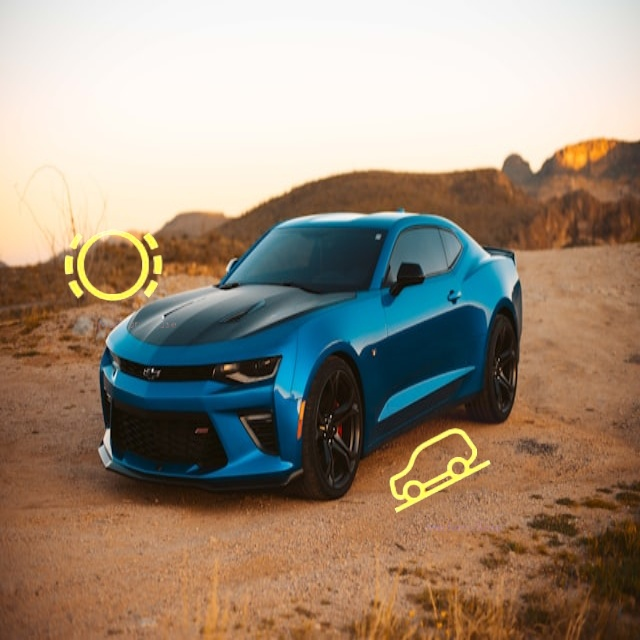symbol: (44, 197, 182, 335), (375, 407, 506, 538)
